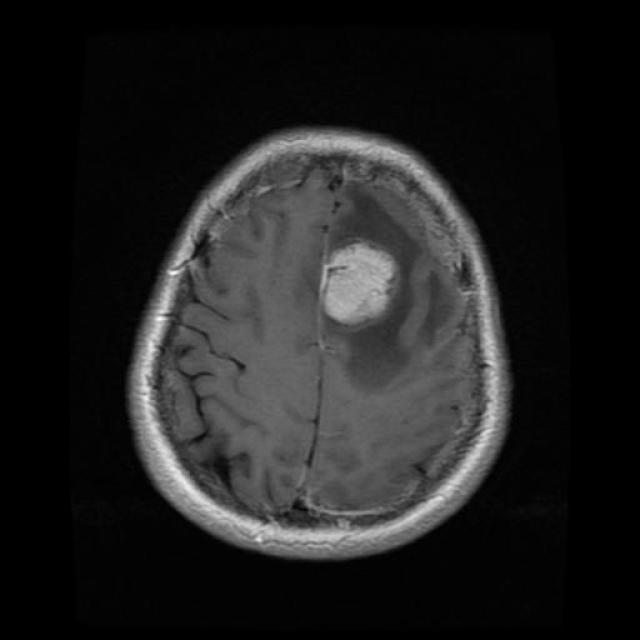meningioma: (321, 242, 400, 326)
